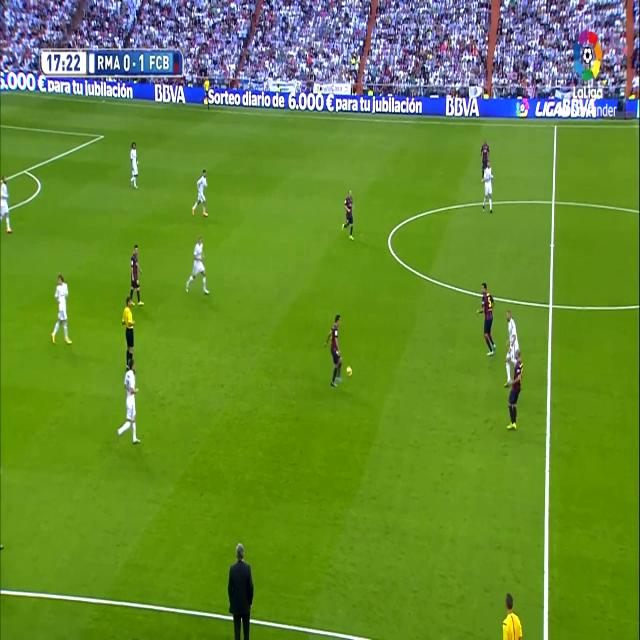halfcircle_bottom: (545, 290, 557, 319)
halfcircle_top: (549, 190, 559, 211)
midline_top_intersection: (552, 119, 560, 133)
top_arc_area_intersection: (22, 162, 30, 178)
